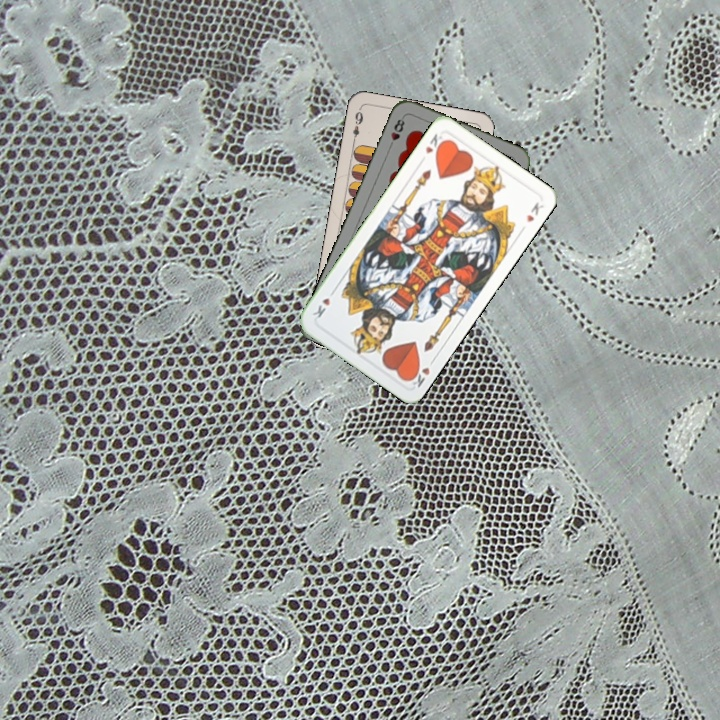E9: (349, 107, 366, 146)
H8: (385, 113, 407, 151)
HK: (405, 354, 438, 390), (421, 129, 448, 158)
